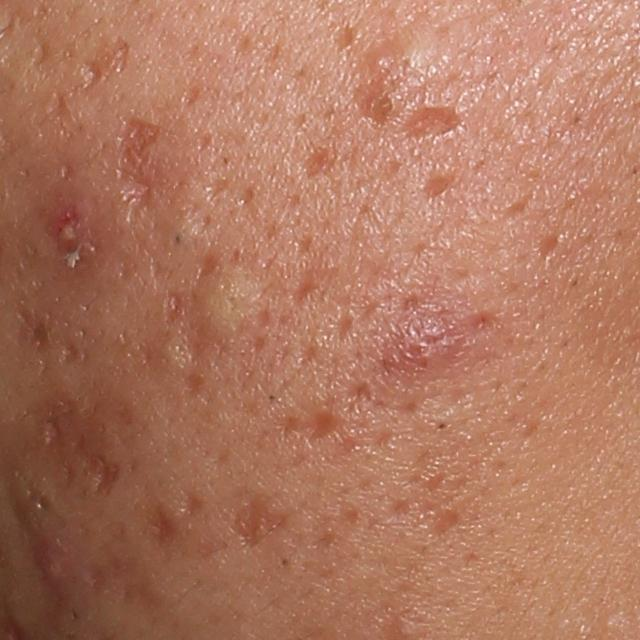atrophic_scar: (333, 155, 425, 331), (115, 116, 165, 224), (442, 202, 501, 288), (134, 290, 187, 378), (187, 253, 217, 398), (228, 491, 297, 554), (110, 220, 170, 288), (76, 34, 133, 95), (271, 406, 348, 448), (345, 80, 398, 134), (402, 104, 465, 148), (419, 386, 475, 428), (78, 448, 120, 503), (294, 264, 336, 316), (15, 469, 57, 521), (409, 497, 462, 536), (143, 495, 177, 552), (297, 143, 337, 181), (421, 171, 459, 199), (535, 231, 563, 264), (326, 23, 356, 52), (178, 489, 203, 522), (57, 340, 84, 367), (299, 337, 324, 366), (180, 82, 200, 109)
comedo: (278, 552, 292, 568)
hypertrophic_scar: (379, 302, 460, 382), (201, 268, 266, 339), (385, 22, 442, 79)
papule: (33, 539, 78, 587)
